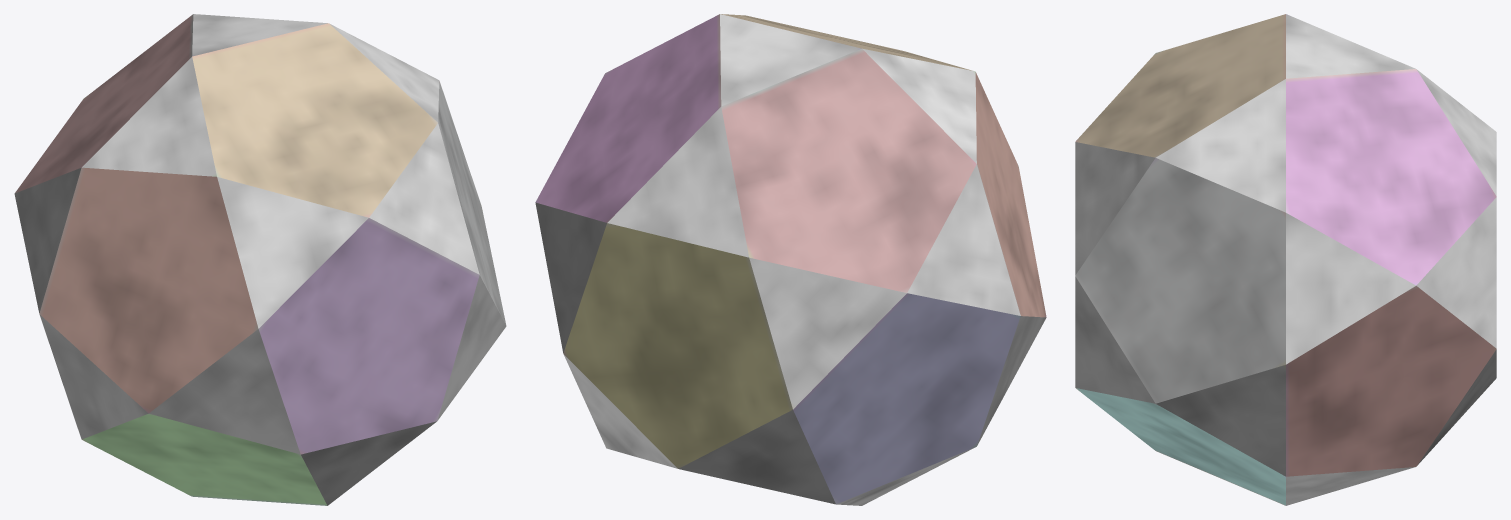
The model's file is constellation_focus.obj.
3 views of the same model, side by side, from view 1: azimuth 30°, elevation 25°; view 2: azimuth 150°, elevation 25°; view 3: azimuth 270°, elevation 25° (orthographic). The views are drawn at different scales.
Parts seen in each view (by area): view 1: constellation_focus; view 2: constellation_focus; view 3: constellation_focus.
Part boxes in pixels (box(x1,y1,x2,y2)): constellation_focus: box(14, 14, 506, 505); constellation_focus: box(535, 14, 1046, 505); constellation_focus: box(1075, 14, 1496, 505).
Bounding box in the file's own units: 1.1 × 1.05 × 0.9357.
